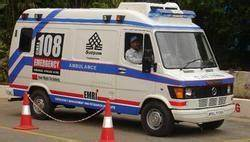ambulance: (6, 3, 242, 129)
